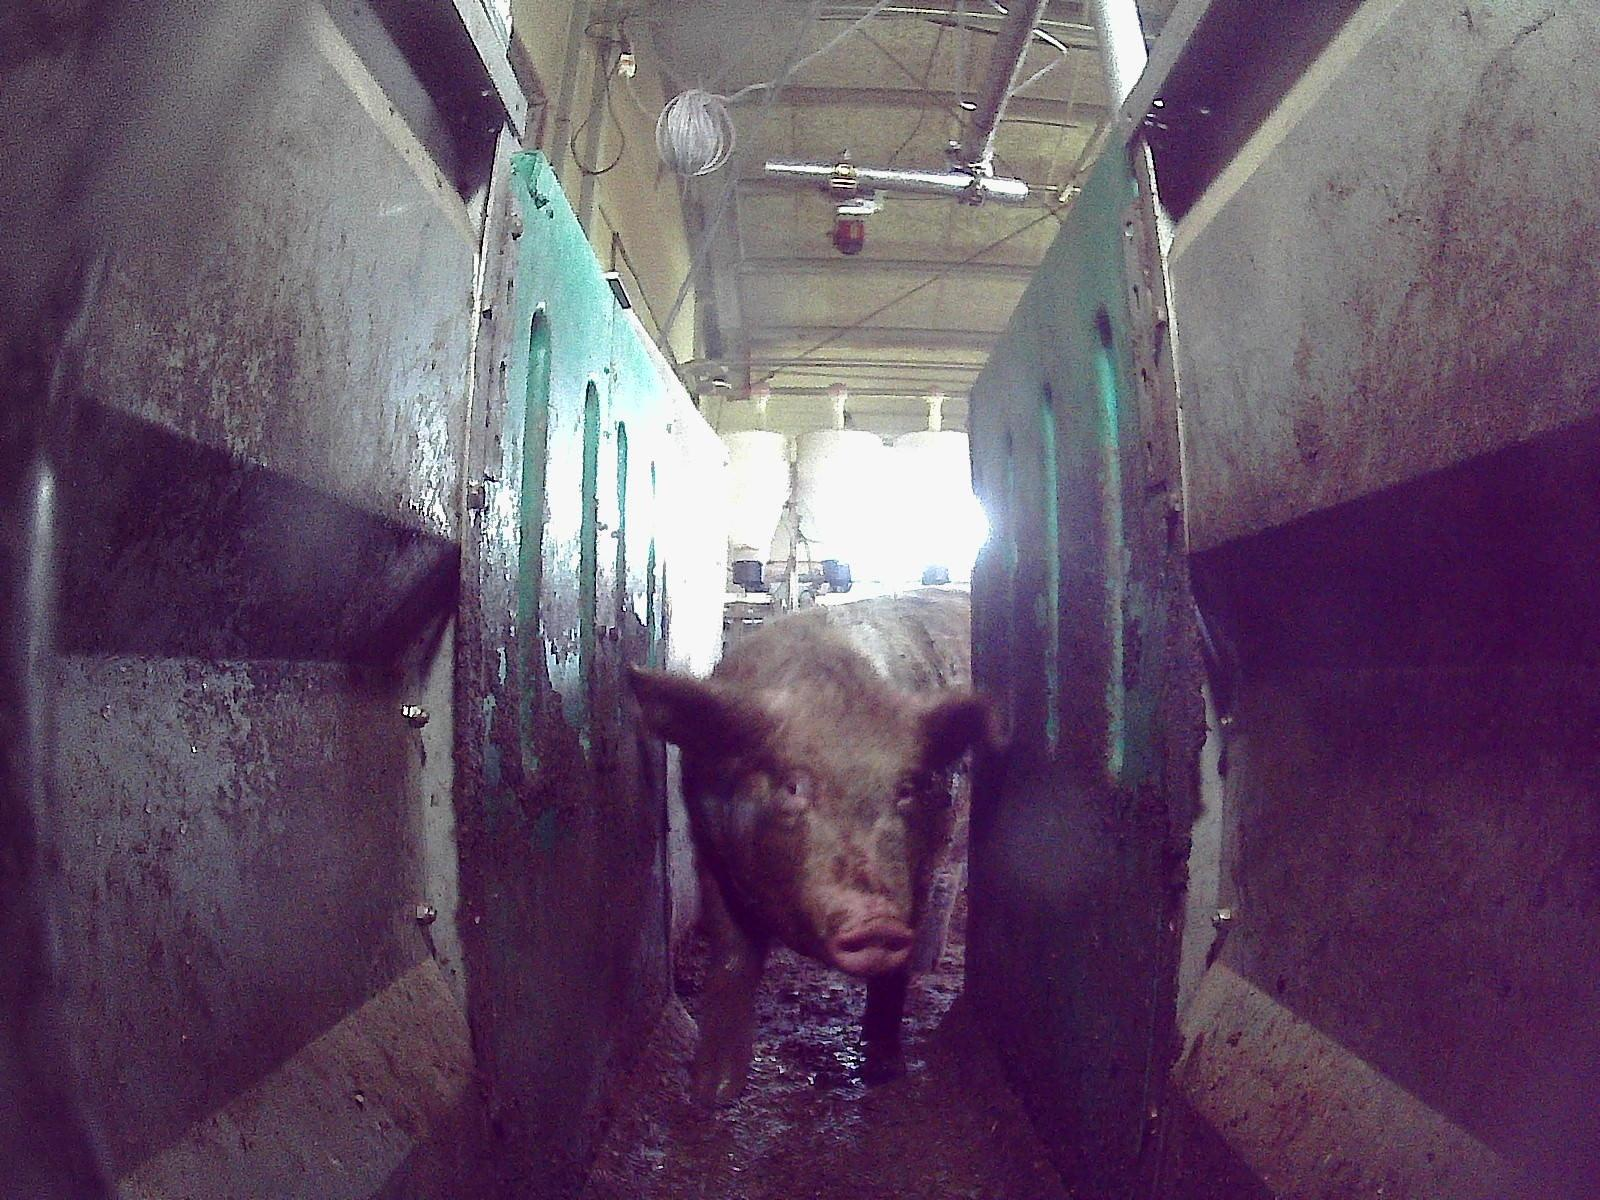Face: (725, 672, 937, 976)
